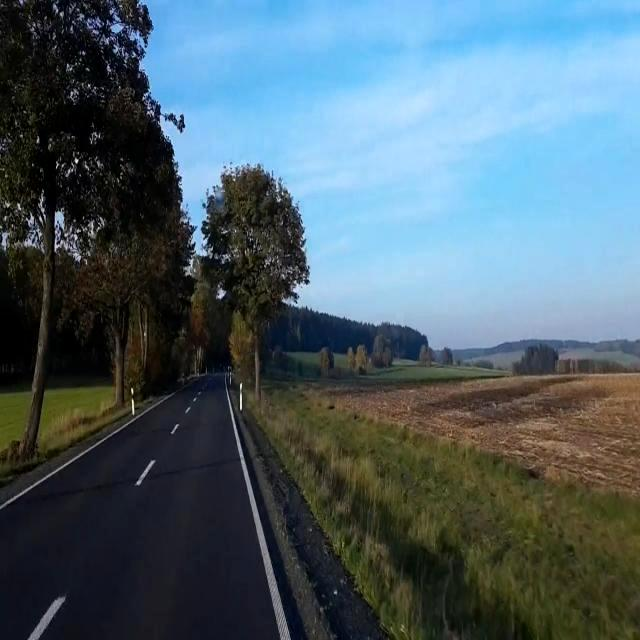lane: (0, 392, 176, 511), (226, 379, 291, 639), (28, 595, 65, 639), (135, 460, 156, 486)
road: (0, 375, 278, 639)
